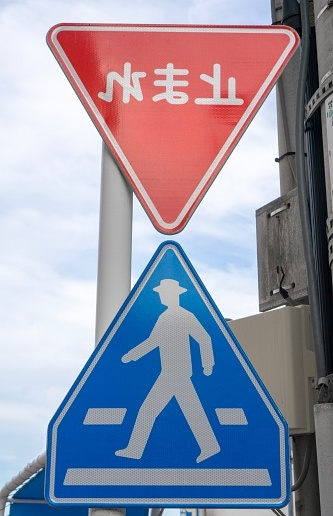Regulatory_sign_triangle: (30, 14, 310, 247)
